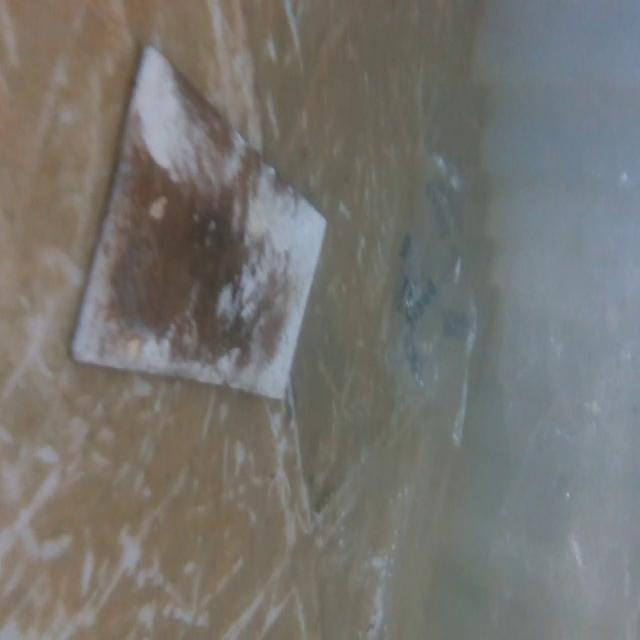plastic bags: (392, 153, 482, 458)
